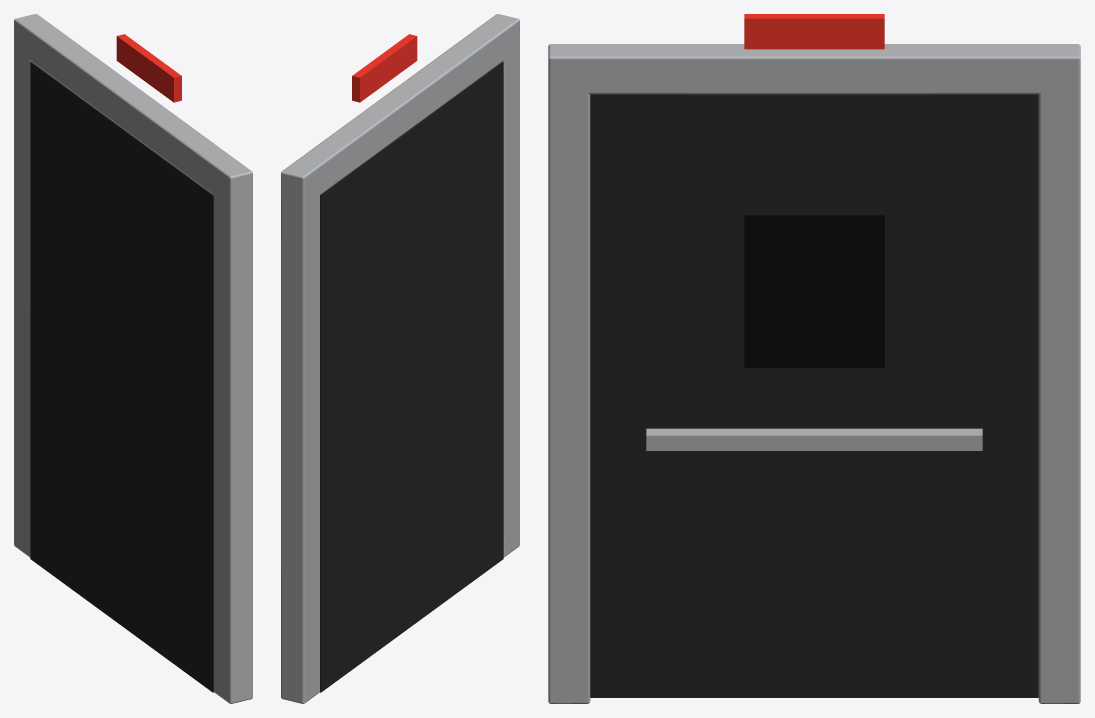
The model's file is gate_door_closed.glb.
3 renders of one model, left to right at view 1: azimuth 30°, elevation 25°; view 2: azimuth 150°, elevation 25°; view 3: azimuth 270°, elevation 25°, orthographic. The views are drawn at different scales.
Visible parts, largest first — view 1: fluegel, rahmen.001, rahmen.002, rahmen, statusleuchte; view 2: fluegel, rahmen, rahmen.002, rahmen.001, statusleuchte; view 3: fluegel, rahmen.001, rahmen, rahmen.002, fenster, stange, statusleuchte.
Part boxes in pixels (bbox=[...]): fluegel: bbox=[30, 62, 213, 692]; rahmen.001: bbox=[214, 161, 252, 703]; rahmen.002: bbox=[14, 15, 252, 205]; rahmen: bbox=[14, 14, 51, 557]; statusleuchte: bbox=[116, 34, 181, 102]; fluegel: bbox=[320, 62, 503, 692]; rahmen: bbox=[281, 161, 319, 703]; rahmen.002: bbox=[281, 14, 519, 205]; rahmen.001: bbox=[483, 14, 519, 557]; statusleuchte: bbox=[352, 34, 417, 102]; fluegel: bbox=[590, 94, 1038, 697]; rahmen.001: bbox=[548, 44, 590, 703]; rahmen: bbox=[1038, 44, 1080, 703]; rahmen.002: bbox=[548, 44, 1080, 94]; fenster: bbox=[744, 215, 884, 367]; stange: bbox=[646, 428, 982, 450]; statusleuchte: bbox=[744, 14, 884, 49].
Bounding box in the file's own units: 0.16 × 2.72 × 1.9.
